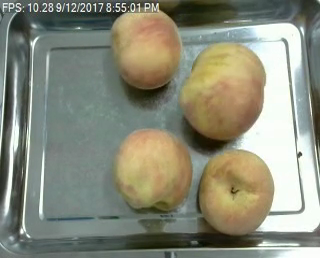Peach: (179, 40, 267, 141), (198, 149, 275, 236), (112, 127, 191, 211), (110, 6, 183, 90)
